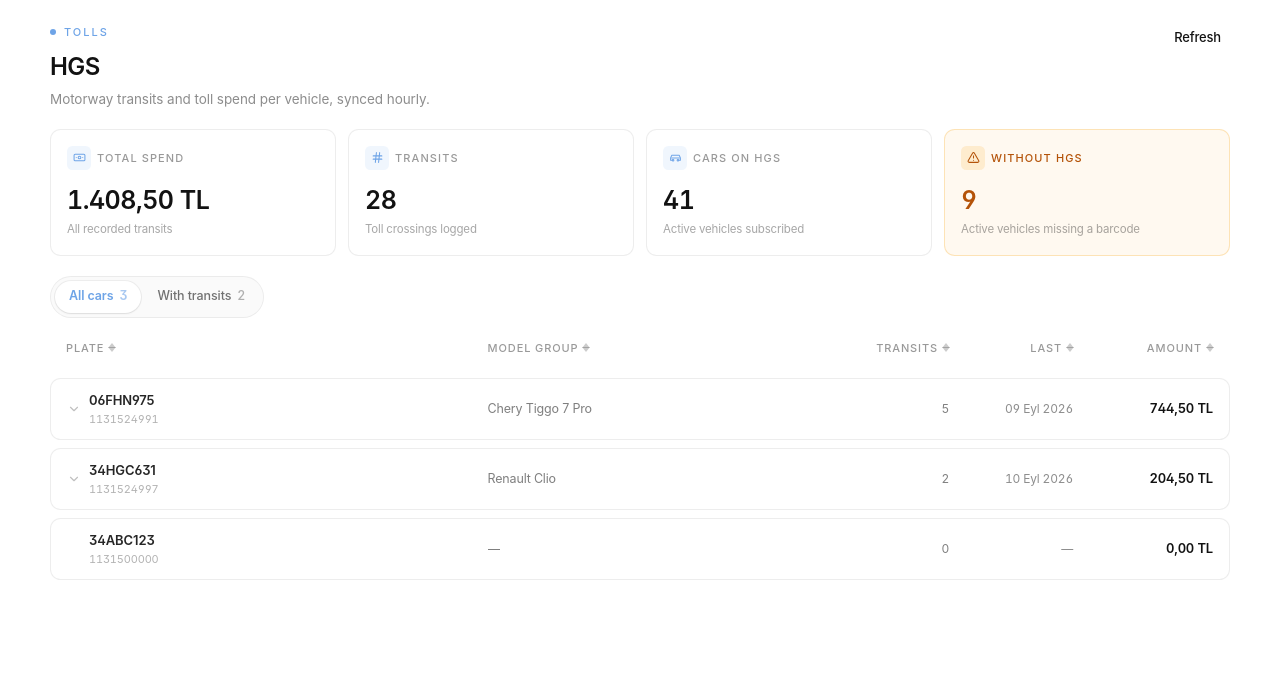
Test: expanding a car fetches its history only once
The width and height of the screenshot is (1280, 683).
Click the text "06FHN975" at point(124, 401), box [89, 391, 159, 410]
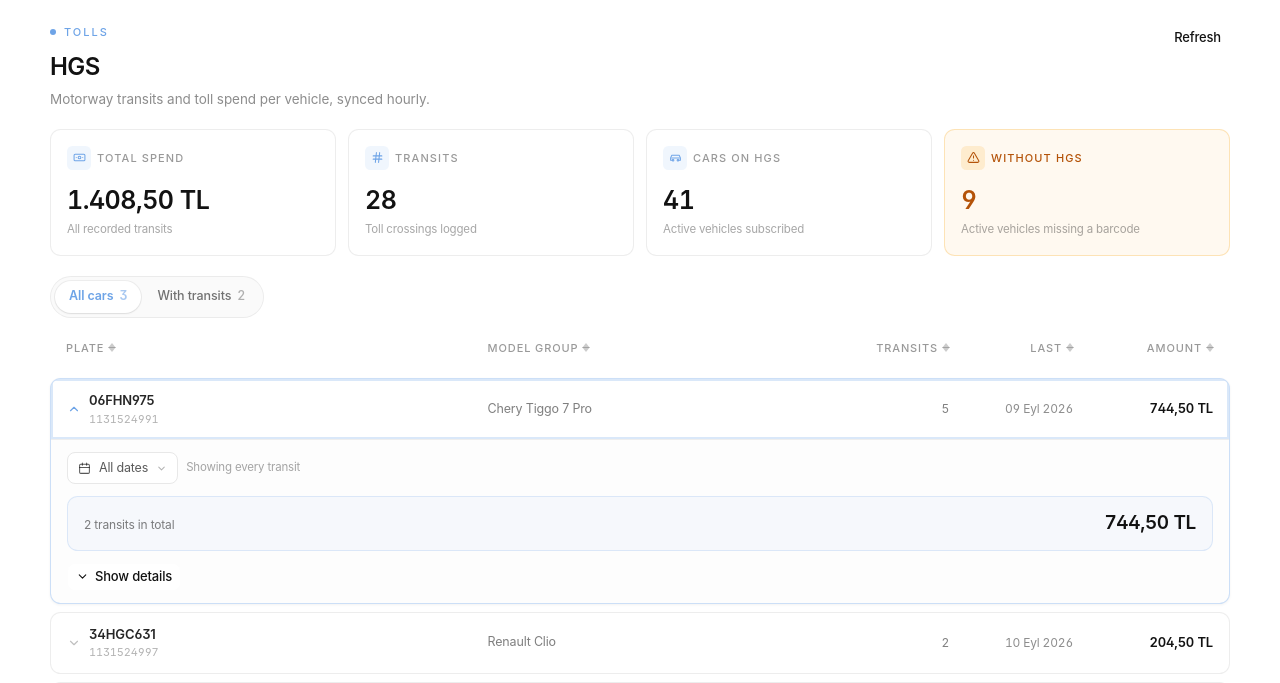
Click the text "06FHN975" at point(124, 401), box [89, 391, 159, 410]
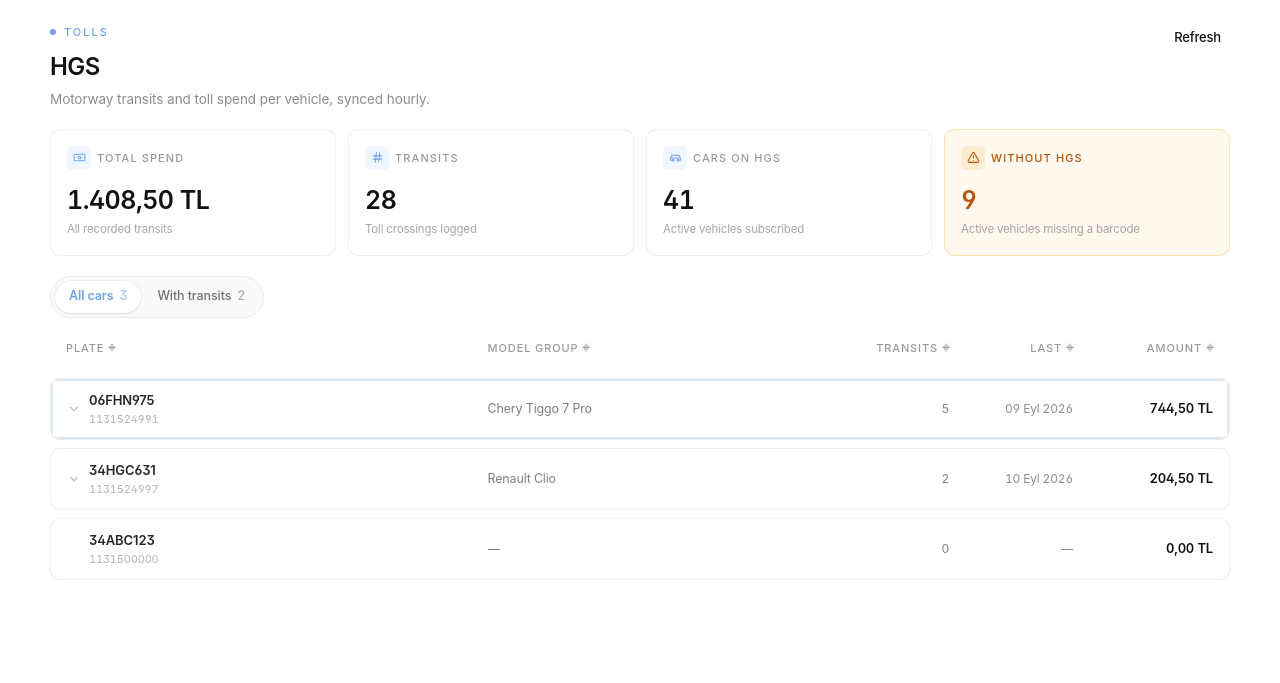
Click the text "06FHN975" at point(124, 401), box [89, 391, 159, 410]
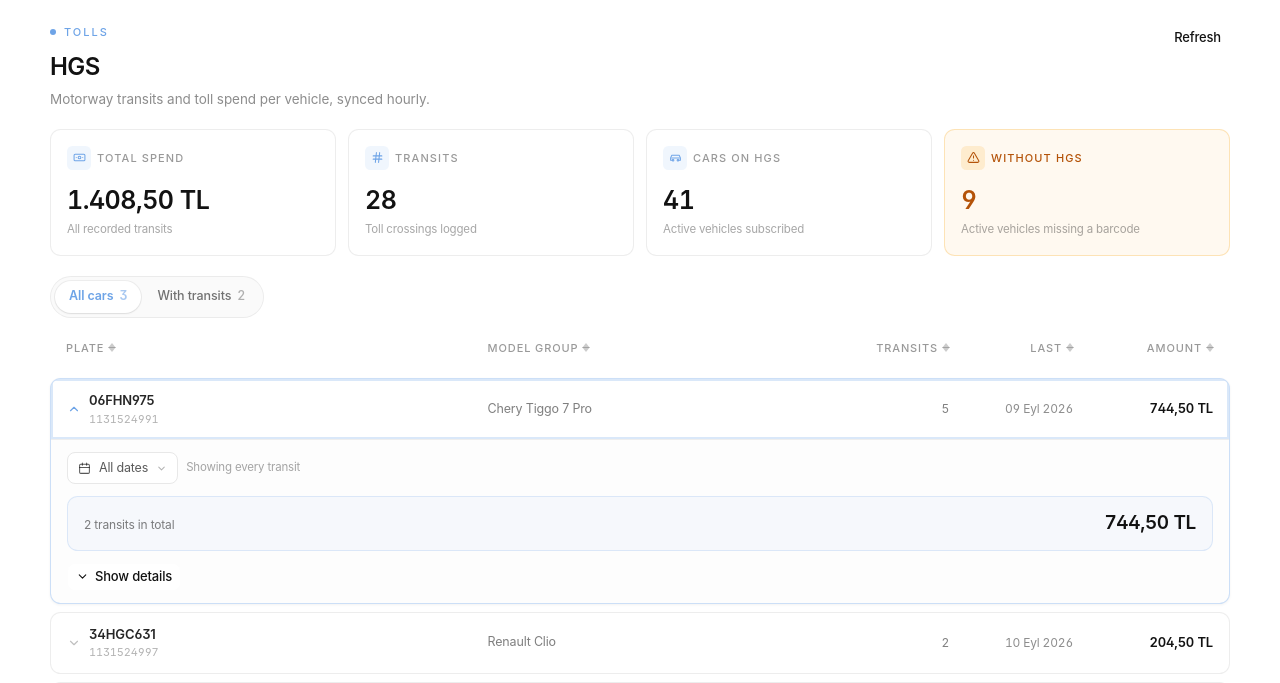
Expected: the text "2 transits in total" is shown, [84, 516, 174, 534]
